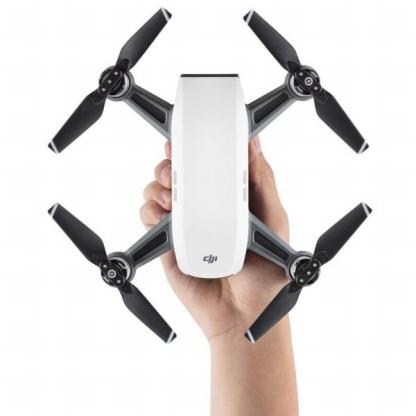drone: (29, 20, 394, 323)
